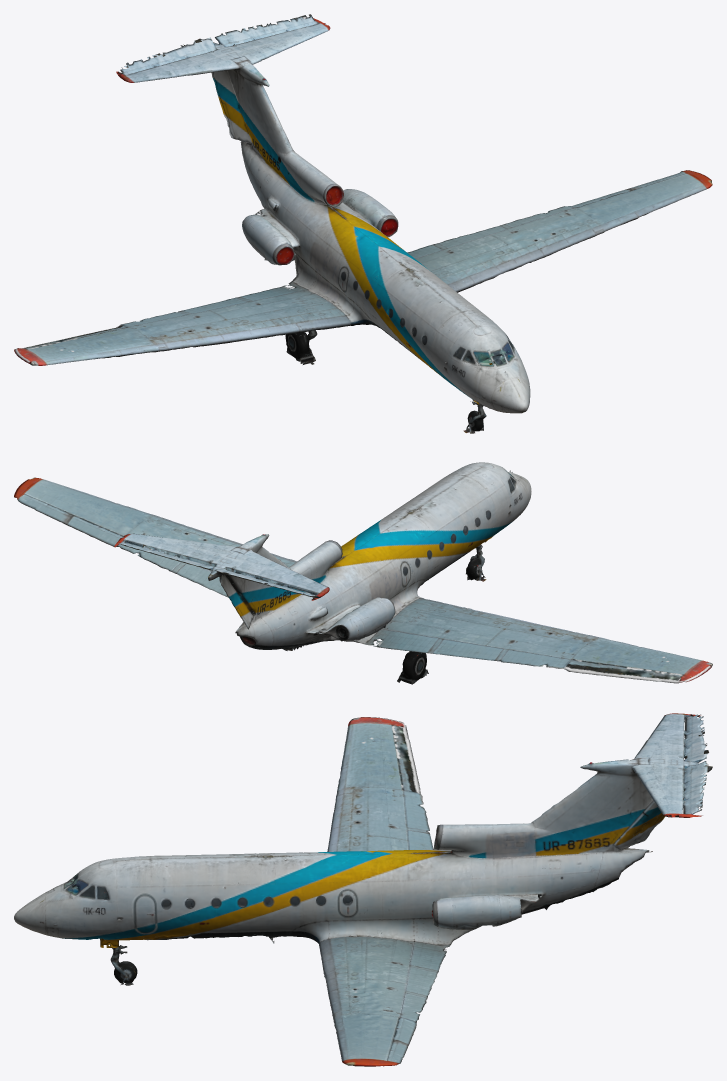
3 views of the same model, one above another, from view 1: azimuth 30°, elevation 25°; view 2: azimuth 150°, elevation 25°; view 3: azimuth 270°, elevation 25° (orthographic). The views are drawn at different scales.
Parts seen in each view (by area): view 1: YAK; view 2: YAK; view 3: YAK.
Part boxes in pixels (x1,y1,x2,y2): YAK: (14,14,712,433); YAK: (14,462,712,684); YAK: (14,713,712,1066).
Bounding box in the file's own units: 3866 × 1100 × 3096.
Materials: 1 (1 with a texture image).
